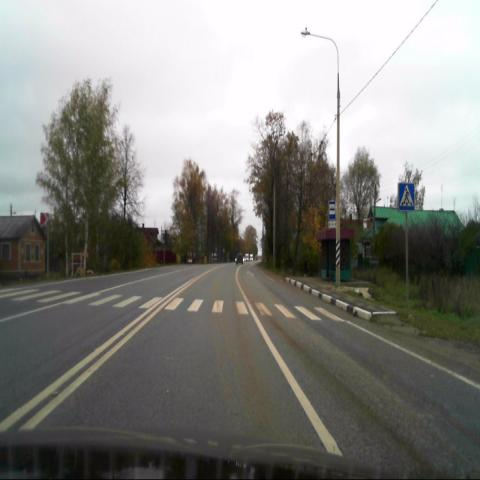5_16: (328, 200, 335, 218)
5_19_1: (398, 181, 414, 212)
